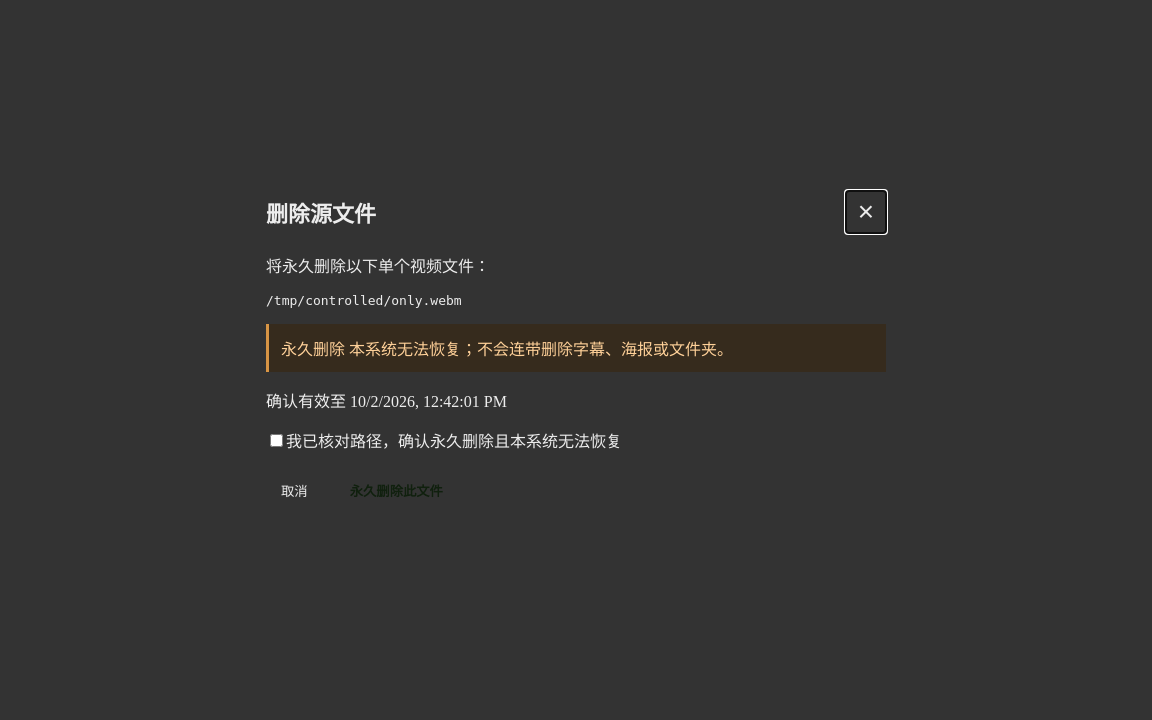
Test case: partial/unknown delete has a terminal non-retry result: {"fileOutcome":"deleted","indexOutcome":"pending","message":"核对索引","retryable":false,"requestId":"r"}
Expected: the text "/tmp/controlled/only.webm" is shown, left=266, top=293, right=462, bottom=308
Click the checkbox.
click(276, 440)  # box left=270, top=434, right=283, bottom=447
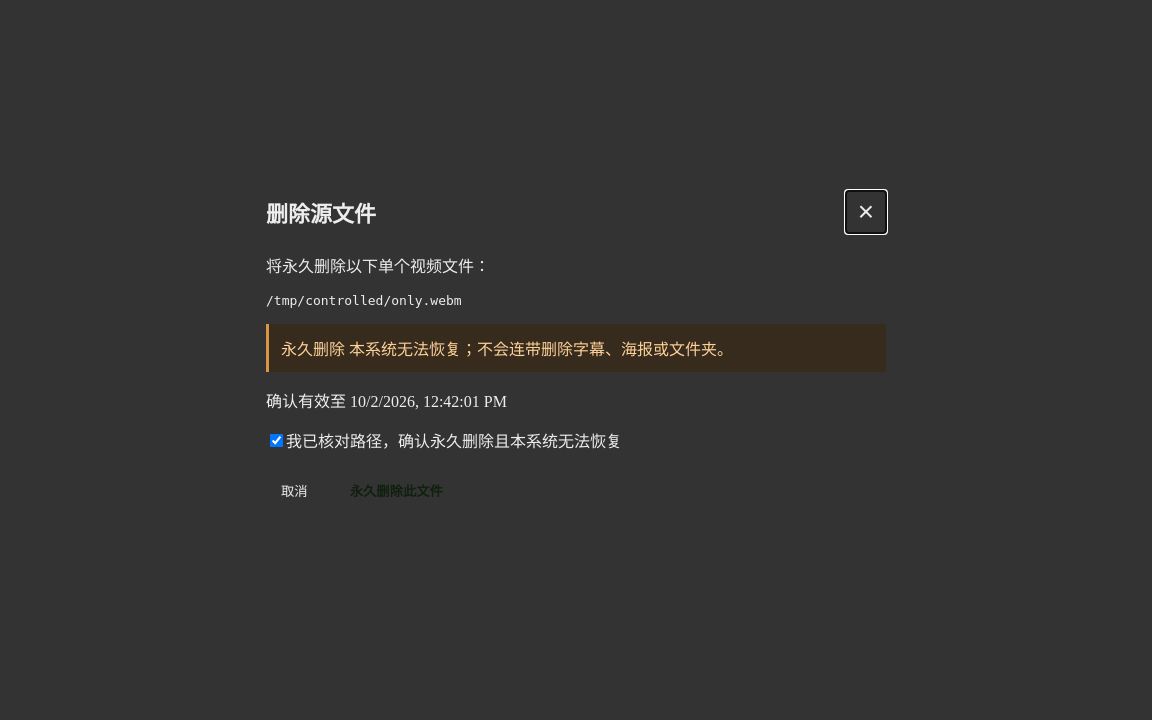
Click the button "永久删除此文件".
click(396, 490)  # box left=335, top=472, right=458, bottom=509
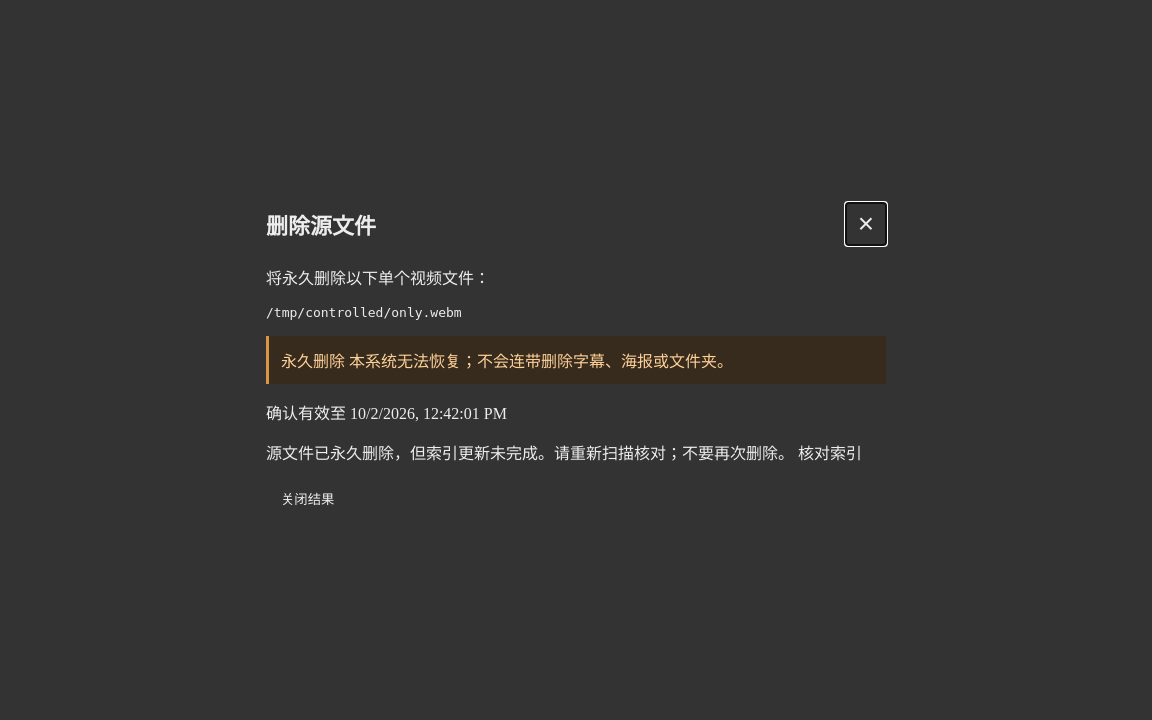
Now the text "源文件已永久删除，但索引更新未完成。请重新扫描核对；不要再次删除。 核对索引" is shown, box left=266, top=440, right=886, bottom=464
Now the button "永久删除此文件" is gone
